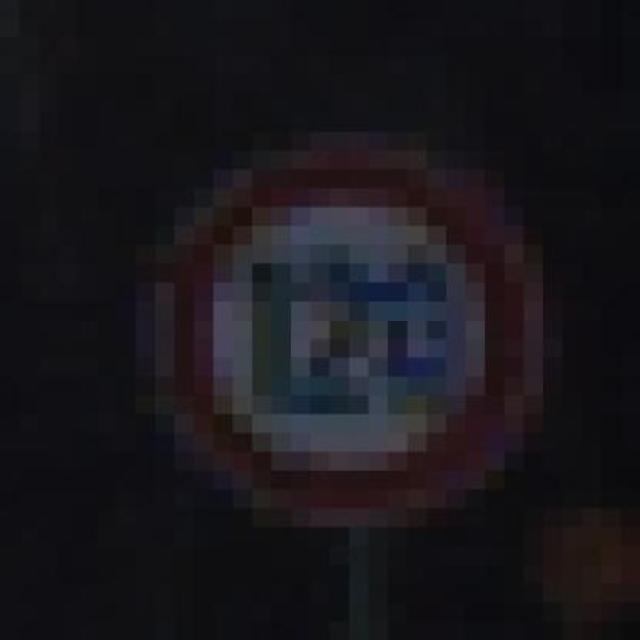forb_speed_over_120: (177, 166, 531, 506)
